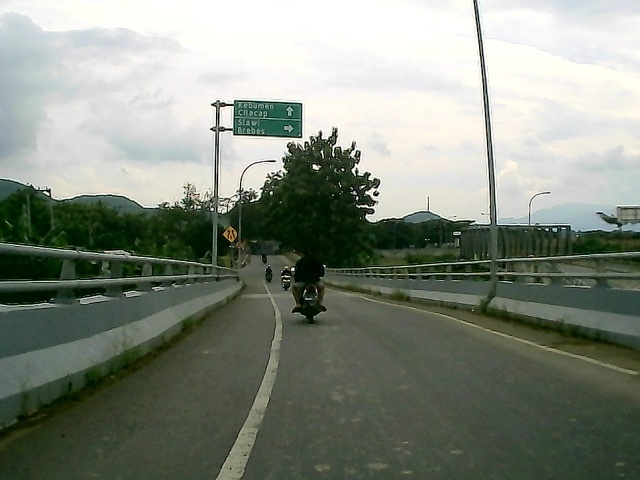Akhir bangunan pemisah satu arah: (220, 225, 239, 244)
